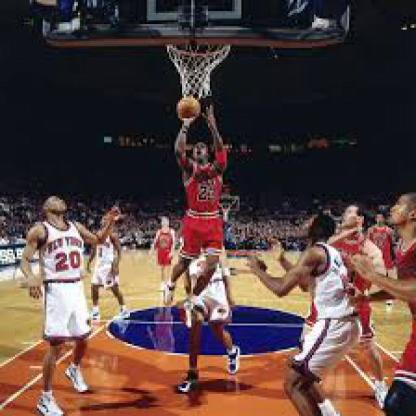basketball: (176, 96, 200, 120)
rim: (165, 35, 232, 59)
